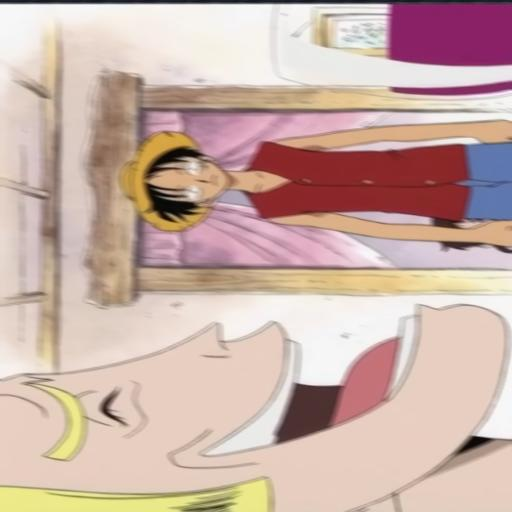Luffy: (117, 110, 512, 259)
